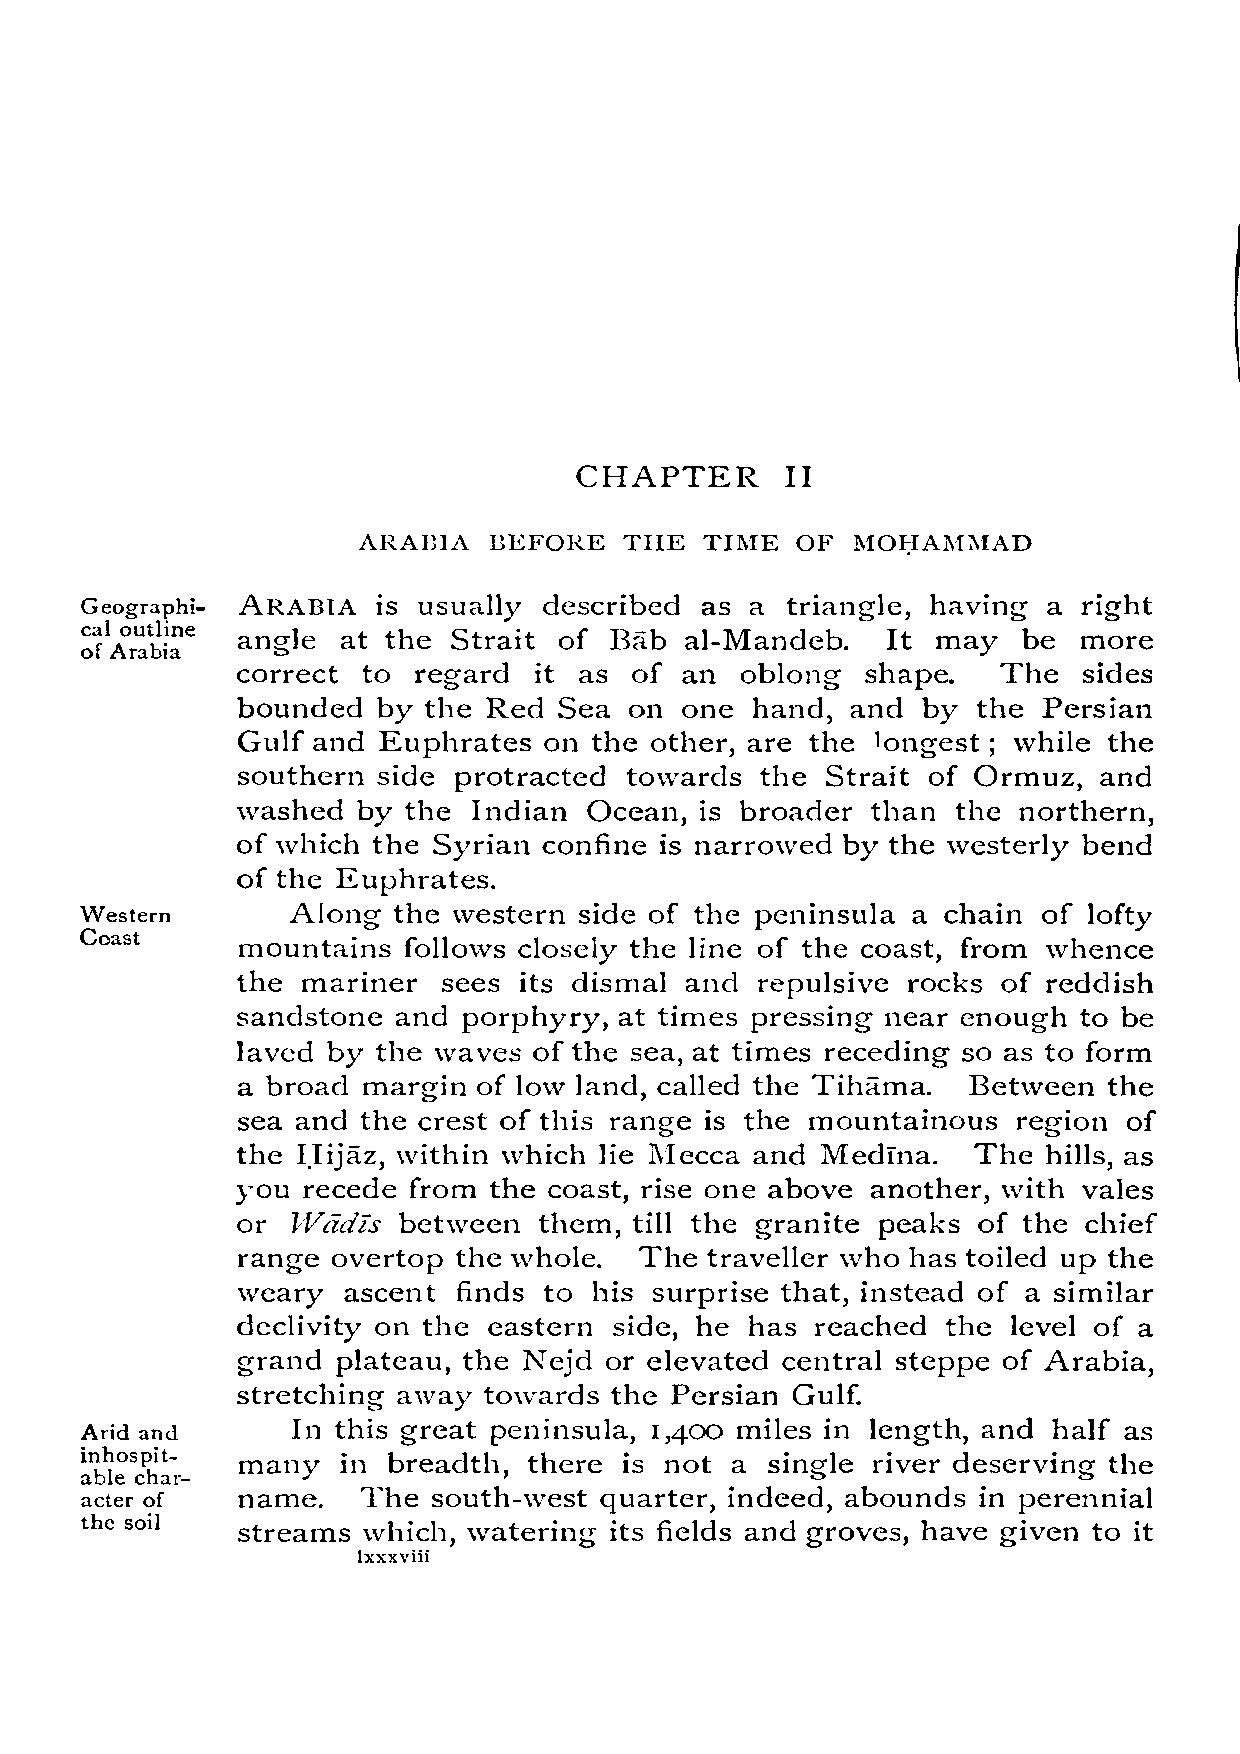chapter: (354, 463, 1033, 554)
content: (231, 589, 1157, 1550)
